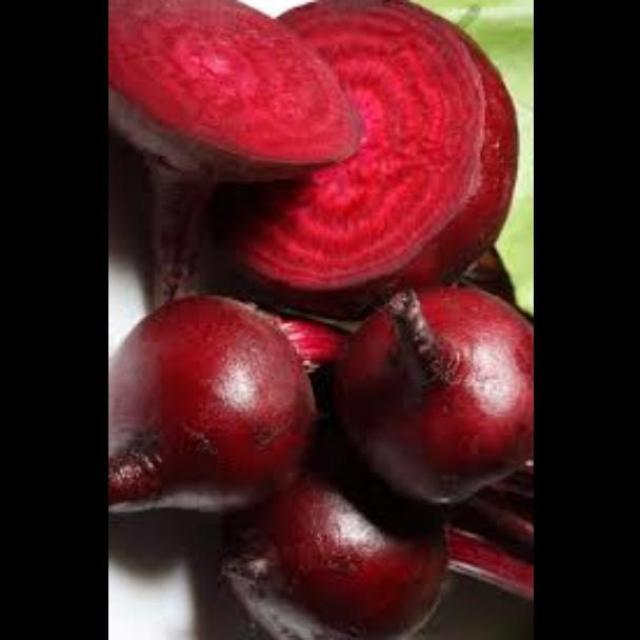beet: (213, 1, 526, 319), (109, 1, 367, 205), (203, 459, 460, 640), (108, 306, 320, 518), (341, 290, 534, 508)
